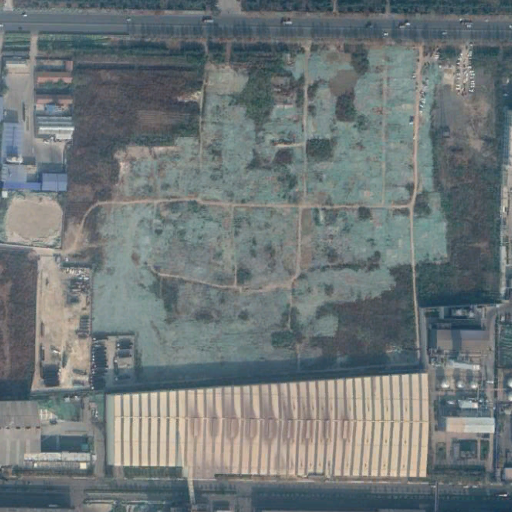cw: (92, 45, 446, 386)
